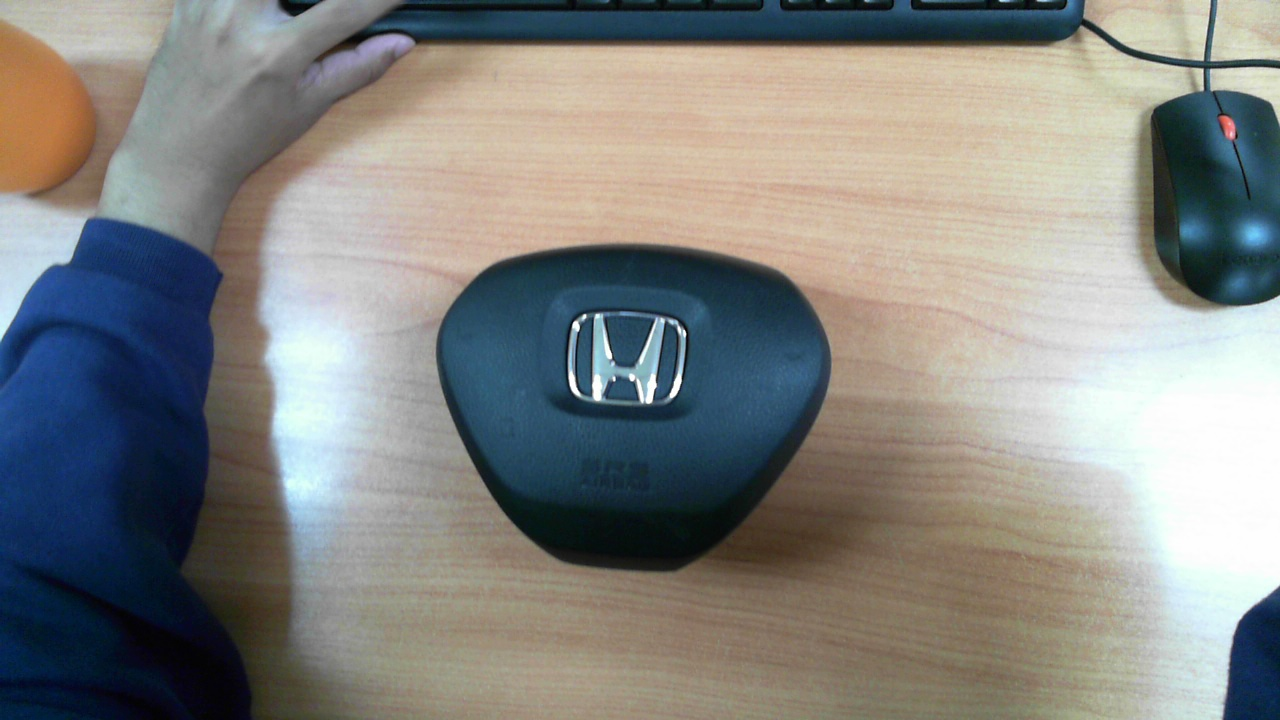Airbag: (437, 244, 830, 572)
